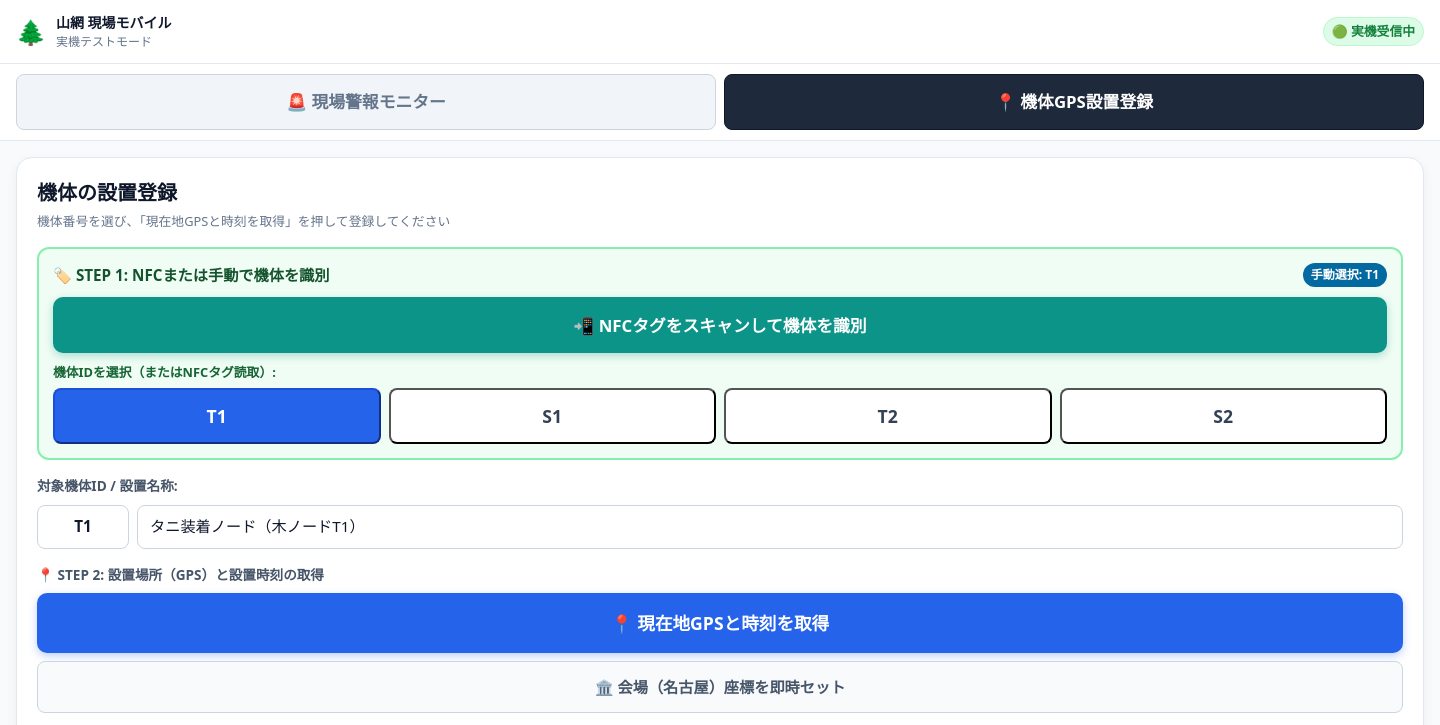
MobileHome › Web NFC 非対応環境でスキャンボタンを押した際に成功偽装せず、正直な案内メッセージを表示する (Issue #42)
The image size is (1440, 725).
Click the button "📲 NFCタグをスキャンして機体を識別".
click(720, 325)  # box [53,297,1387,353]
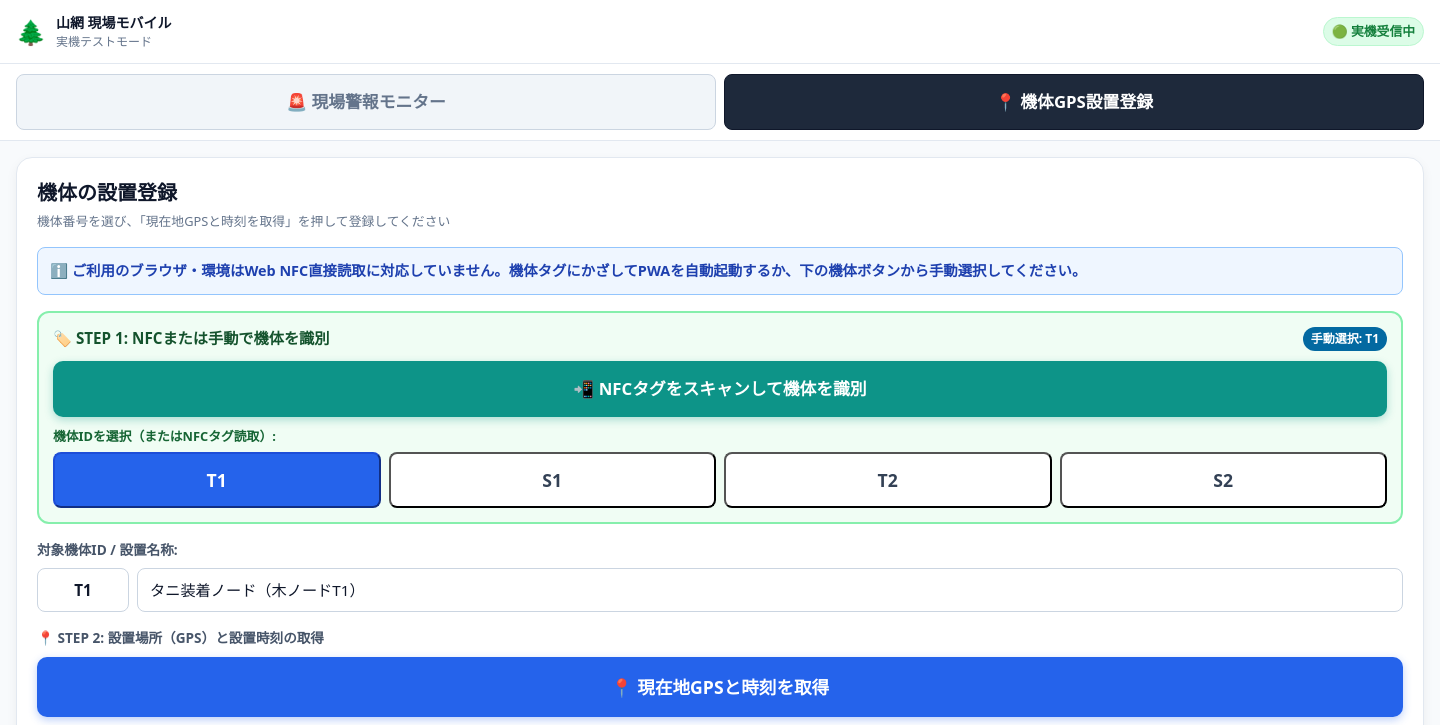
Check: the text "ℹ️ ご利用のブラウザ・環境はWeb NFC直接読取に対応していません。機体タグにかざしてPWAを自動起動するか、下の機体ボタンから手動選択してください。" is shown, box [37,247,1403,295]
